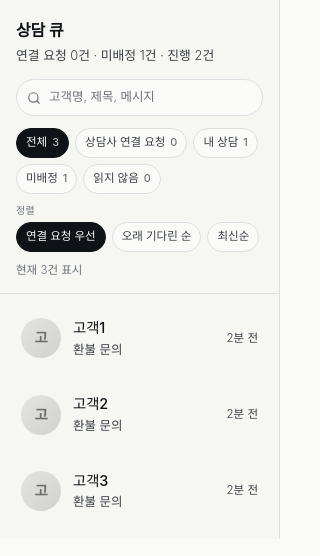
Test: QueuePanel › 내 상담 필터를 선택하면 현재 상담사에게 배정된 세션만 표시한다
Click the button "내 상담 1".
click(226, 143)  # box [193,128,258,158]
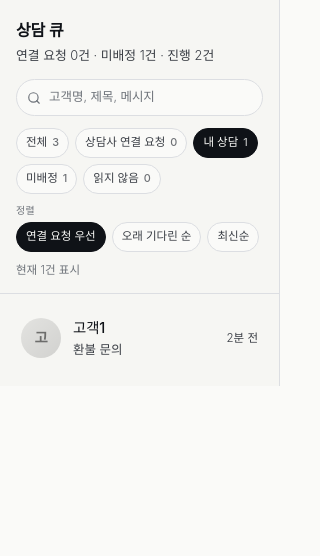
Now the button "고객2" is gone
Now the button "고객3" is gone
Now the text "현재 1건 표시" is shown, box [16,263,80,277]
